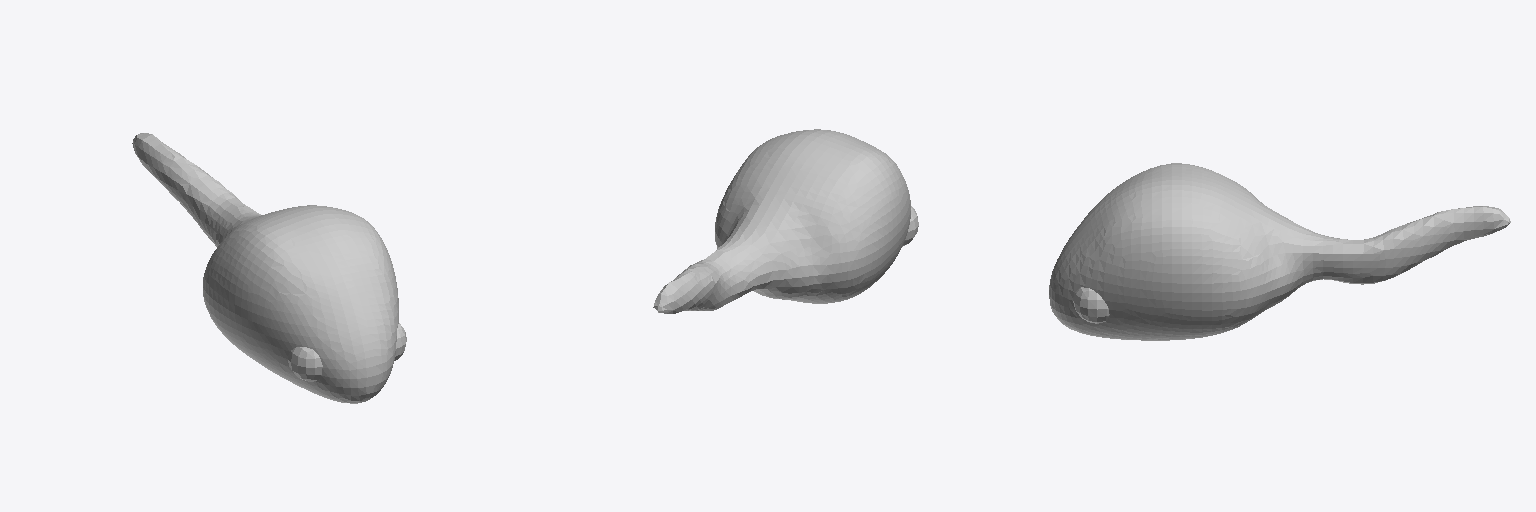
The model's file is radpole.obj.
3 renders of one model, left to right at view 1: azimuth 30°, elevation 25°; view 2: azimuth 150°, elevation 25°; view 3: azimuth 270°, elevation 25°, orthographic.
Visible parts, largest first — view 1: Cylinder, Sphere; view 2: Cylinder; view 3: Cylinder, Sphere.
Part boxes in pixels (x1,y1,x2,y2): Cylinder: (132,133,398,403); Sphere: (288,323,406,381); Cylinder: (653,129,910,313); Cylinder: (1049,163,1510,340); Sphere: (1073,287,1109,323).
Size of the model in its own units: 0.8454 by 0.8183 by 2.19.